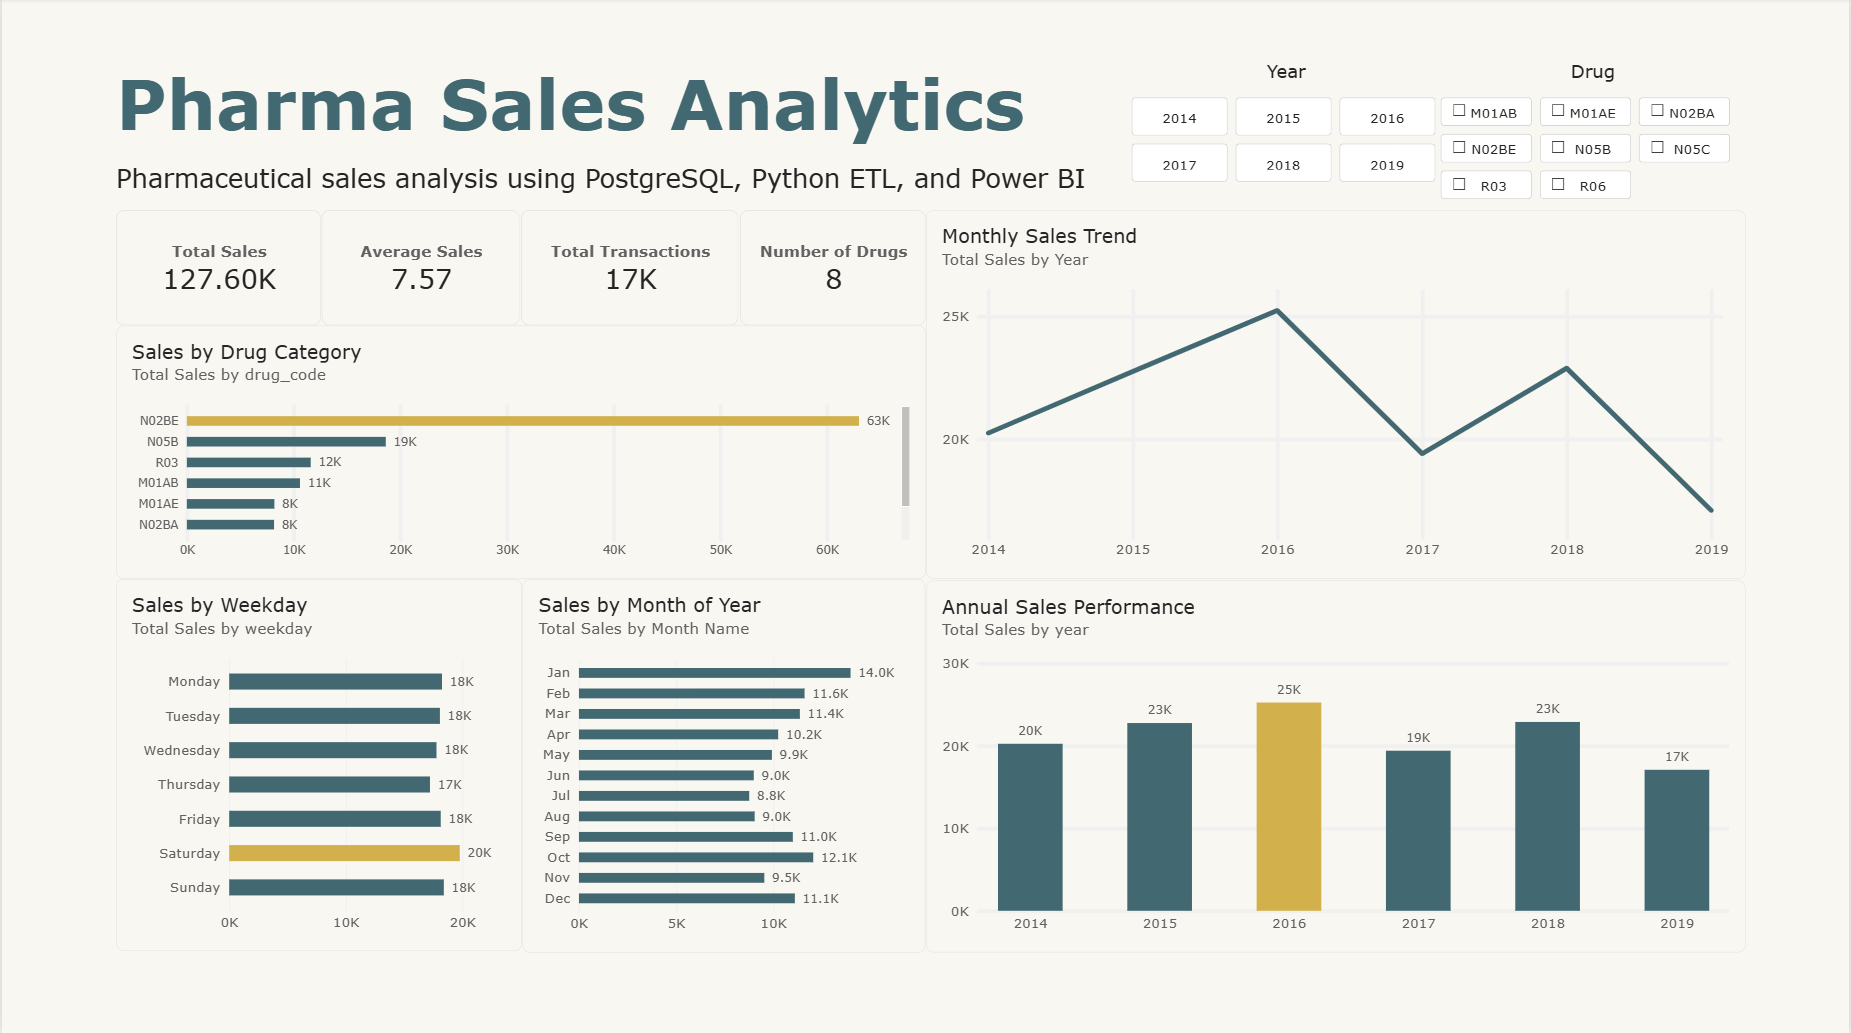

What the dashboard file says about the page in this screenshot:
{"tool":"powerbi","page":{"name":"Duplicate of Pharma Sales Analytics Dashboard","canvas":[1920,1080],"ordinal":1},"visuals":[{"type":"cardVisual","fields":{"Data":["public fact_sales_dw.Total Sales"]},"box":[118.3,221.7,213.3,120],"z":0},{"type":"cardVisual","fields":{"Data":["public fact_sales_dw.Average Sales"]},"box":[331.7,221.7,206.7,120],"z":1000},{"type":"cardVisual","fields":{"Data":["public fact_sales_dw.Total Transactions"]},"box":[540,221.7,226.7,120],"z":2000},{"type":"cardVisual","fields":{"Data":["public fact_sales_dw.Number of Drugs"]},"box":[766.7,221.7,193.3,120],"z":3000},{"type":"lineChart","title":"Monthly Sales Trend","fields":{"Category":["public dim_date.date.Variation.Date Hierarchy.Year","public dim_date.date.Variation.Date Hierarchy.Quarter","public dim_date.date.Variation.Date Hierarchy.Month","public dim_date.date.Variation.Date Hierarchy.Day"],"Y":["public fact_sales_dw.Total Sales"]},"box":[960,221.7,851.7,383.3],"z":4000},{"type":"barChart","title":"Sales by Drug Category","fields":{"Category":["public dim_drug.drug_code"],"Y":["public fact_sales_dw.Total Sales"]},"box":[118.3,341.7,841.7,263.3],"z":5000},{"type":"columnChart","title":"Annual Sales Performance","fields":{"Category":["public dim_date.year"],"Y":["public fact_sales_dw.Total Sales"]},"box":[960,606.7,851.7,386.7],"z":6000},{"type":"barChart","title":"Sales by Weekday","fields":{"Category":["public dim_date.weekday"],"Y":["public fact_sales_dw.Total Sales"]},"box":[118.3,605,421.7,386.7],"z":7000},{"type":"textbox","box":[118.3,65,1055,106.7],"z":8000},{"type":"textbox","box":[118.3,171.7,1055,50],"z":9000},{"type":"advancedSlicerVisual","title":"Year","fields":{"Values":["public dim_date.year"]},"box":[1173.3,65,321.7,156.7],"z":10000},{"type":"advancedSlicerVisual","title":"Drug","fields":{"Values":["public dim_drug.drug_code"]},"box":[1495,65,316.7,156.7],"z":11000},{"type":"barChart","title":"Sales by Month of Year","fields":{"Category":["public dim_date.Month Name"],"Y":["public fact_sales_dw.Total Sales"]},"box":[541.7,605,418.3,388.3],"z":12000}]}

Visuals, with their boxes in screenshot pixels (x1, y1, x2, y2), scaled from the page's 1920x1080 canvas onto the 1851x1033 screenshot:
cardVisual - public fact_sales_dw.Total Sales: Rect(114, 212, 320, 327)
cardVisual - public fact_sales_dw.Average Sales: Rect(320, 212, 519, 327)
cardVisual - public fact_sales_dw.Total Transactions: Rect(521, 212, 739, 327)
cardVisual - public fact_sales_dw.Number of Drugs: Rect(739, 212, 926, 327)
"Monthly Sales Trend" lineChart: Rect(926, 212, 1747, 579)
"Sales by Drug Category" barChart: Rect(114, 327, 926, 579)
"Annual Sales Performance" columnChart: Rect(926, 580, 1747, 950)
"Sales by Weekday" barChart: Rect(114, 579, 521, 949)
textbox: Rect(114, 62, 1131, 164)
textbox: Rect(114, 164, 1131, 212)
"Year" advancedSlicerVisual: Rect(1131, 62, 1441, 212)
"Drug" advancedSlicerVisual: Rect(1441, 62, 1747, 212)
"Sales by Month of Year" barChart: Rect(522, 579, 926, 950)
